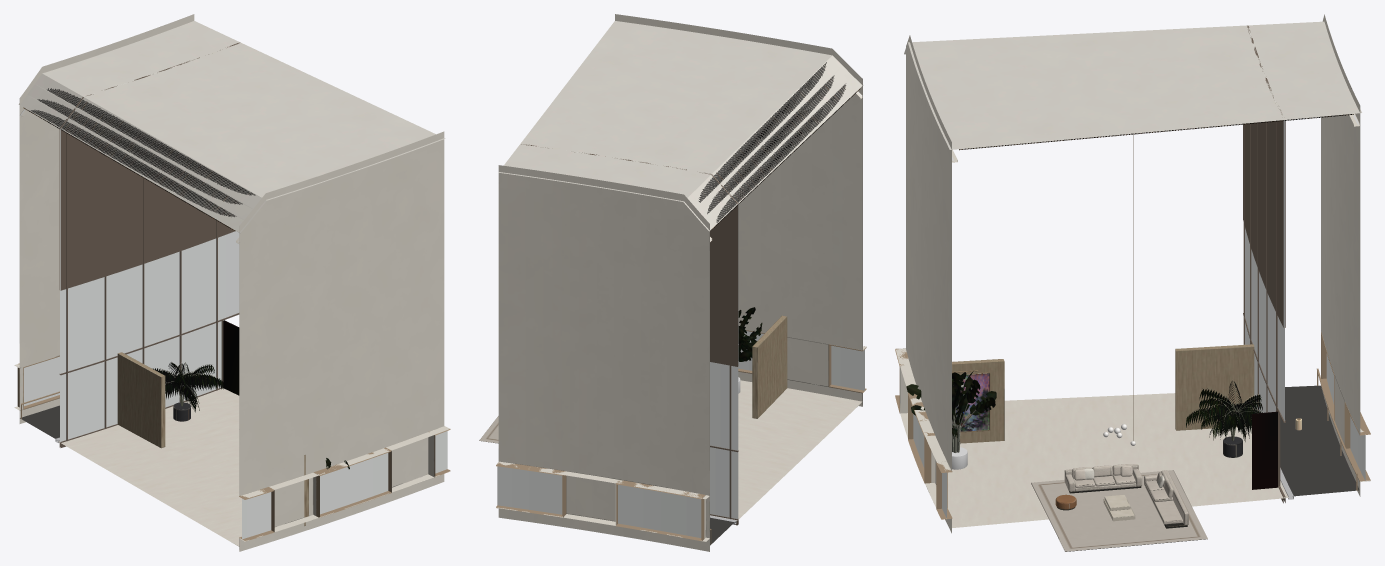
3 views of the same model, side by side, from view 1: azimuth 30°, elevation 25°; view 2: azimuth 150°, elevation 25°; view 3: azimuth 270°, elevation 25° (orthographic). The views are drawn at different scales.
Parts seen in each view (by area): view 1: c1680, c1680 leaves; view 2: c1680, c1680 leaves; view 3: c1680, c1680 leaves.
Part boxes in pixels (x1,y1,x2,y2): c1680: [14, 14, 450, 551]; c1680 leaves: [23, 88, 349, 469]; c1680: [479, 14, 866, 551]; c1680 leaves: [699, 62, 860, 361]; c1680: [895, 14, 1370, 551]; c1680 leaves: [906, 114, 1353, 489].
Bounding box in the file's own units: 18.8 × 20.7 × 22.8.
12 materials, 1 textured.
